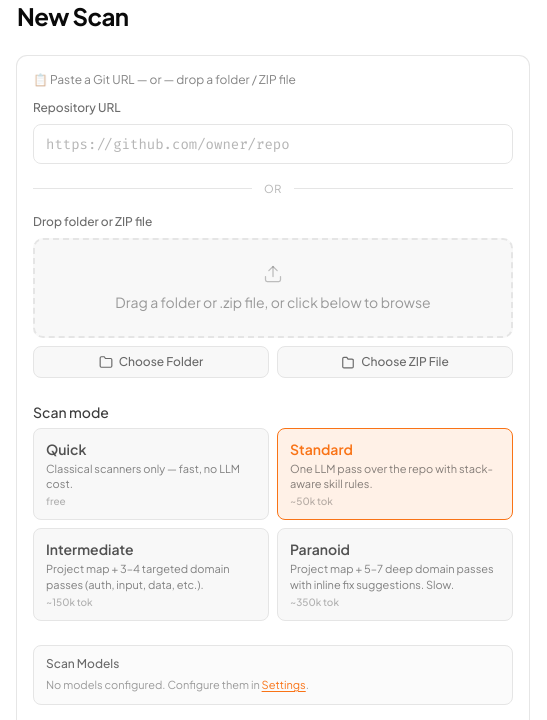
NewScanPage › shows error on network failure
Type "https://github.com/user/repo" into the field with placeholder "https://github.com/owner/repo" at (273, 144), box [33,124,513,164]
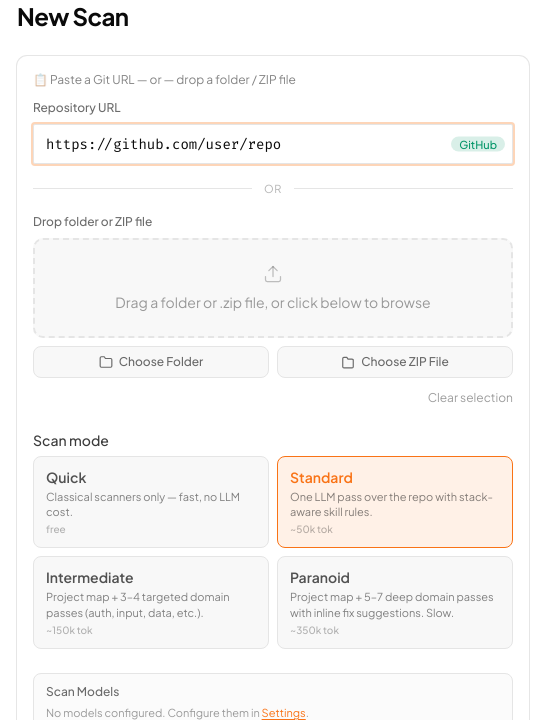
Press Tab
(page scrolled)
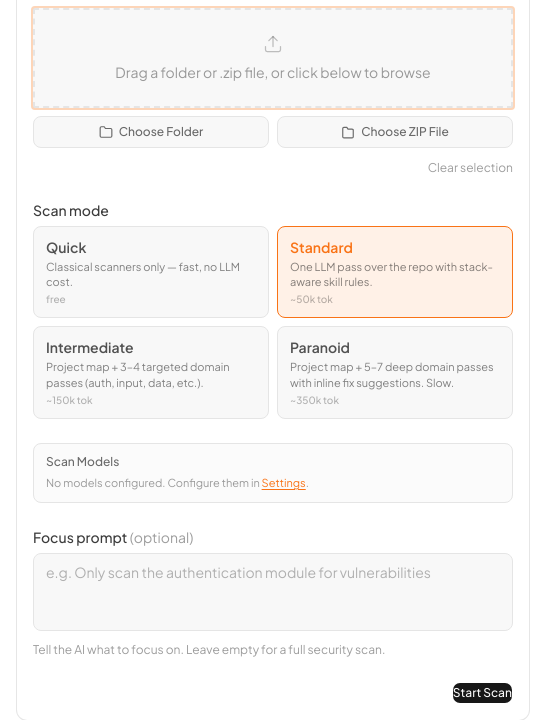
Result: the button "Start Scan" is enabled
Click the button "Start Scan" at (482, 693), box [452,682,513,704]
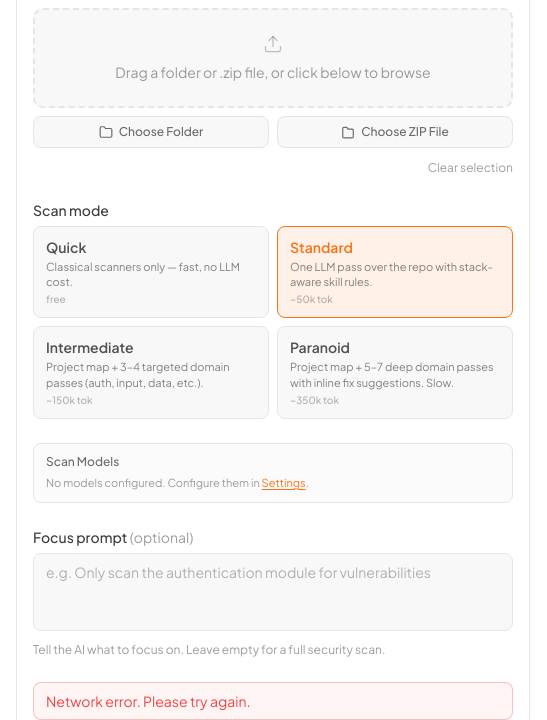
Result: the text "Network error. Please try again." is shown at [33,682,513,719]
